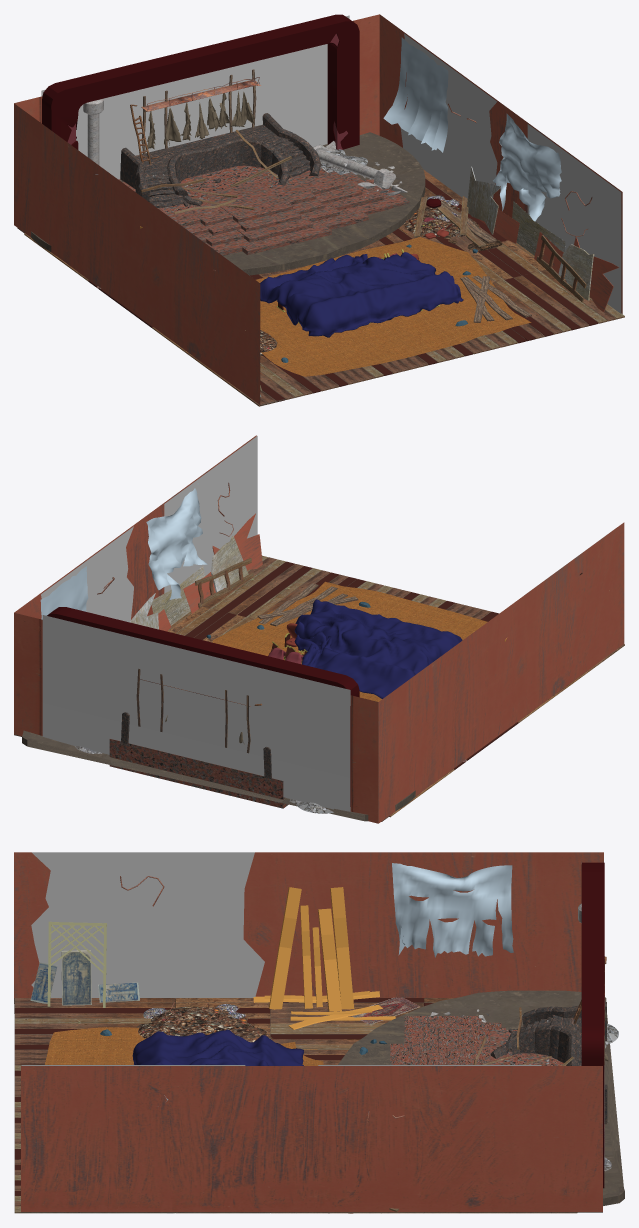
Rendered from Day2.fbx.
3 renders of one model, top to bottom at view 1: azimuth 30°, elevation 25°; view 2: azimuth 150°, elevation 25°; view 3: azimuth 270°, elevation 25°, orthographic. The views are drawn at different scales.
Parts seen in each view (by area): view 1: Plane.005, Plane.038, Plane.014, Plane.039, Plane.008, Plane.017, Plane.046, Circle.002, Plane.024, Plane.023, Plane.022, Circle (+24 smaller); view 2: Plane.014, Plane.005, Plane.017, Plane.038, Plane.024, Plane.023, Plane.039, Plane.046, Plane.008, Plane, Plane.022, Circle.002 (+7 smaller); view 3: Plane.024, Plane.005, Plane.044, Plane.038, Plane.046, Circle.002, Cube.013, Plane.008, Plane.017, Plane.039, Circle, Plane.033 (+13 smaller).
Part boxes in pixels (left/top/right/bottom): Plane.005: left=14, top=96, right=260, bottom=404; Plane.038: left=24, top=169, right=624, bottom=406; Plane.014: left=41, top=15, right=349, bottom=179; Plane.039: left=256, top=237, right=531, bottom=376; Plane.008: left=42, top=14, right=359, bottom=149; Plane.017: left=260, top=252, right=463, bottom=337; Plane.046: left=95, top=37, right=561, bottom=221; Circle.002: left=31, top=132, right=425, bottom=275; Plane.024: left=352, top=14, right=622, bottom=313; Plane.023: left=527, top=124, right=621, bottom=313; Plane.022: left=400, top=33, right=497, bottom=198; Circle: left=120, top=113, right=321, bottom=205; Plane.014: left=42, top=615, right=350, bottom=811; Plane.005: left=350, top=522, right=624, bottom=823; Plane.017: left=294, top=599, right=462, bottom=698; Plane.038: left=167, top=555, right=624, bottom=817; Plane.024: left=14, top=435, right=256, bottom=736; Plane.023: left=164, top=436, right=257, bottom=593; Plane.039: left=212, top=581, right=487, bottom=701; Plane.046: left=40, top=483, right=207, bottom=619; Plane.008: left=47, top=607, right=359, bottom=806; Plane: left=109, top=739, right=288, bottom=808; Plane.022: left=41, top=526, right=133, bottom=622; Circle.002: left=22, top=730, right=415, bottom=821; Plane.024: left=21, top=1066, right=602, bottom=1211; Plane.005: left=14, top=852, right=603, bottom=998; Plane.044: left=31, top=852, right=264, bottom=998; Plane.038: left=14, top=998, right=577, bottom=1213; Plane.046: left=164, top=863, right=513, bottom=1101; Circle.002: left=338, top=990, right=624, bottom=1205; Cube.013: left=269, top=887, right=354, bottom=1011; Plane.008: left=581, top=862, right=604, bottom=1188; Plane.017: left=132, top=1029, right=303, bottom=1065; Plane.039: left=45, top=1027, right=323, bottom=1065; Circle: left=490, top=1002, right=607, bottom=1124; Plane.033: left=136, top=1006, right=272, bottom=1042.
Size of the model in its own units: 5681 by 2036 by 6705.
